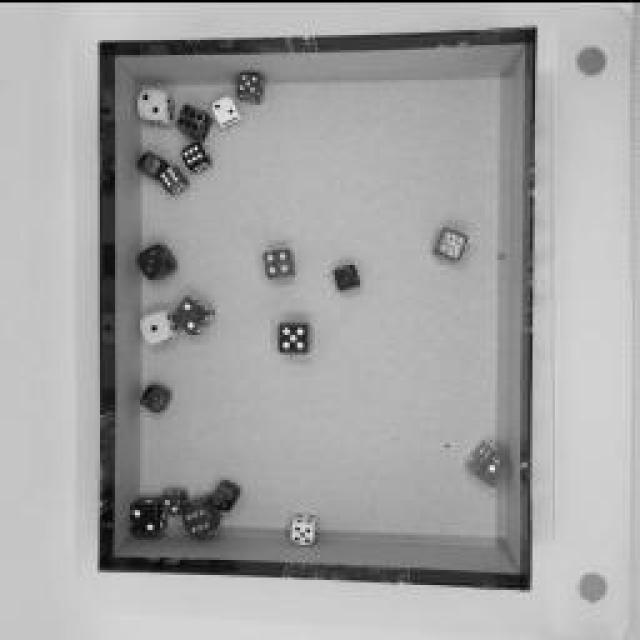dice_1: (465, 439, 515, 486), (138, 304, 182, 346), (135, 145, 170, 177)
dice_2: (169, 290, 219, 335), (128, 492, 170, 538), (135, 85, 180, 125), (210, 92, 245, 128), (140, 380, 175, 412), (160, 483, 190, 515)
dice_3: (136, 240, 182, 280), (332, 260, 362, 290)
dice_4: (262, 244, 298, 276)
dice_5: (431, 224, 471, 261), (210, 475, 245, 510), (290, 508, 320, 548), (235, 68, 270, 102), (278, 318, 312, 352)
dice_6: (180, 488, 225, 538), (175, 100, 215, 138), (160, 158, 190, 192), (181, 140, 214, 170)
